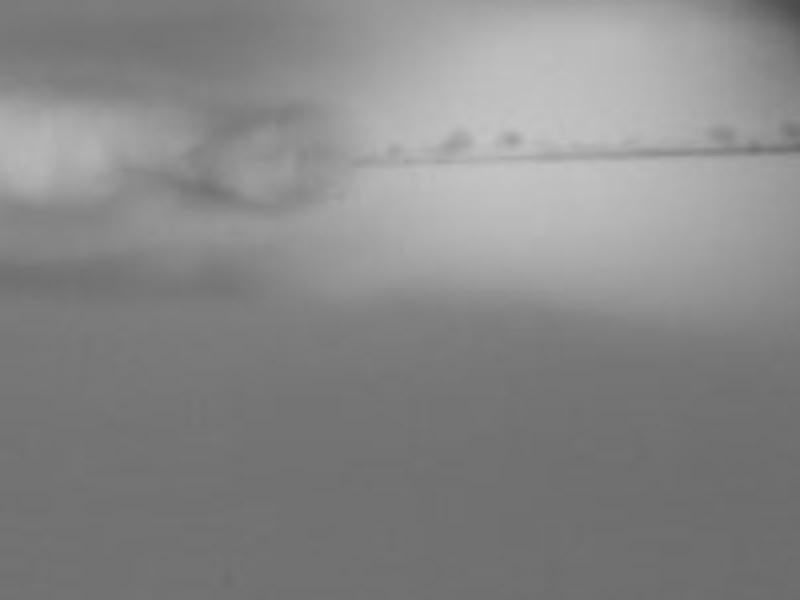defect: (430, 128, 475, 156), (702, 125, 736, 144), (780, 113, 795, 145), (494, 131, 519, 149), (744, 141, 768, 158), (385, 141, 406, 160)
